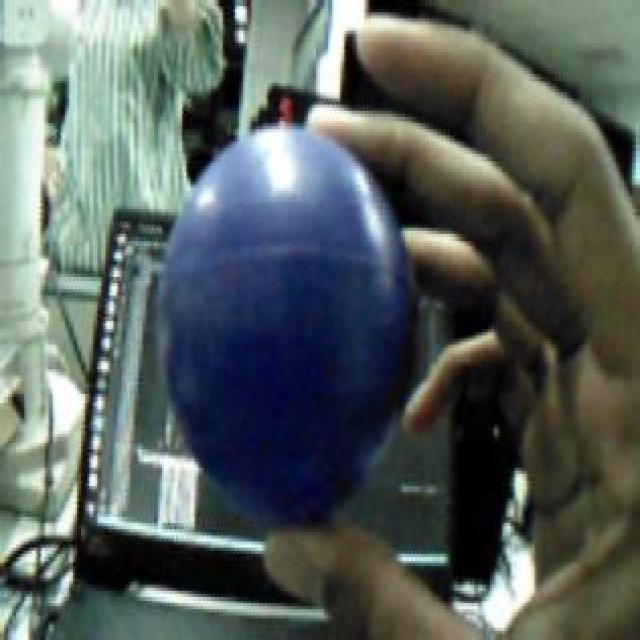BallPurple: (157, 126, 421, 528)
